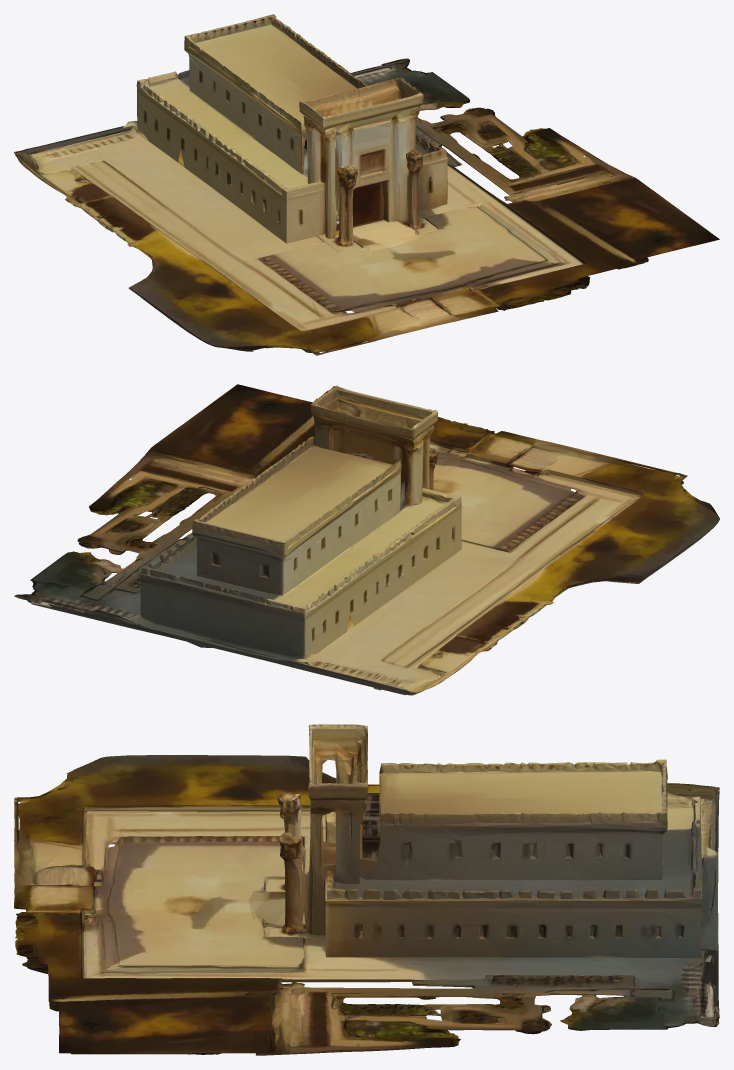
File: TEMPLO CORONA PAPAL Y ARCA GRACIAS AL SEÑOR TERMINADO AML333.glb
3 renders of one model, top to bottom at view 1: azimuth 30°, elevation 25°; view 2: azimuth 150°, elevation 25°; view 3: azimuth 270°, elevation 25°, orthographic. The views are drawn at different scales.
Visible parts, largest first — view 1: world.022, world.021; view 2: world.022, world.021; view 3: world.022, world.021, world.012.
Boxes of the visible parts, x1,y1,x2,y2 form: world.022: (14, 58, 719, 355); world.021: (123, 14, 448, 245); world.022: (14, 384, 719, 695); world.021: (114, 385, 461, 665); world.022: (14, 755, 719, 1055); world.021: (277, 724, 718, 964); world.012: (362, 793, 640, 879).
Size of the model in its own units: 1 by 0.2843 by 1.
6 materials, 6 textured.
